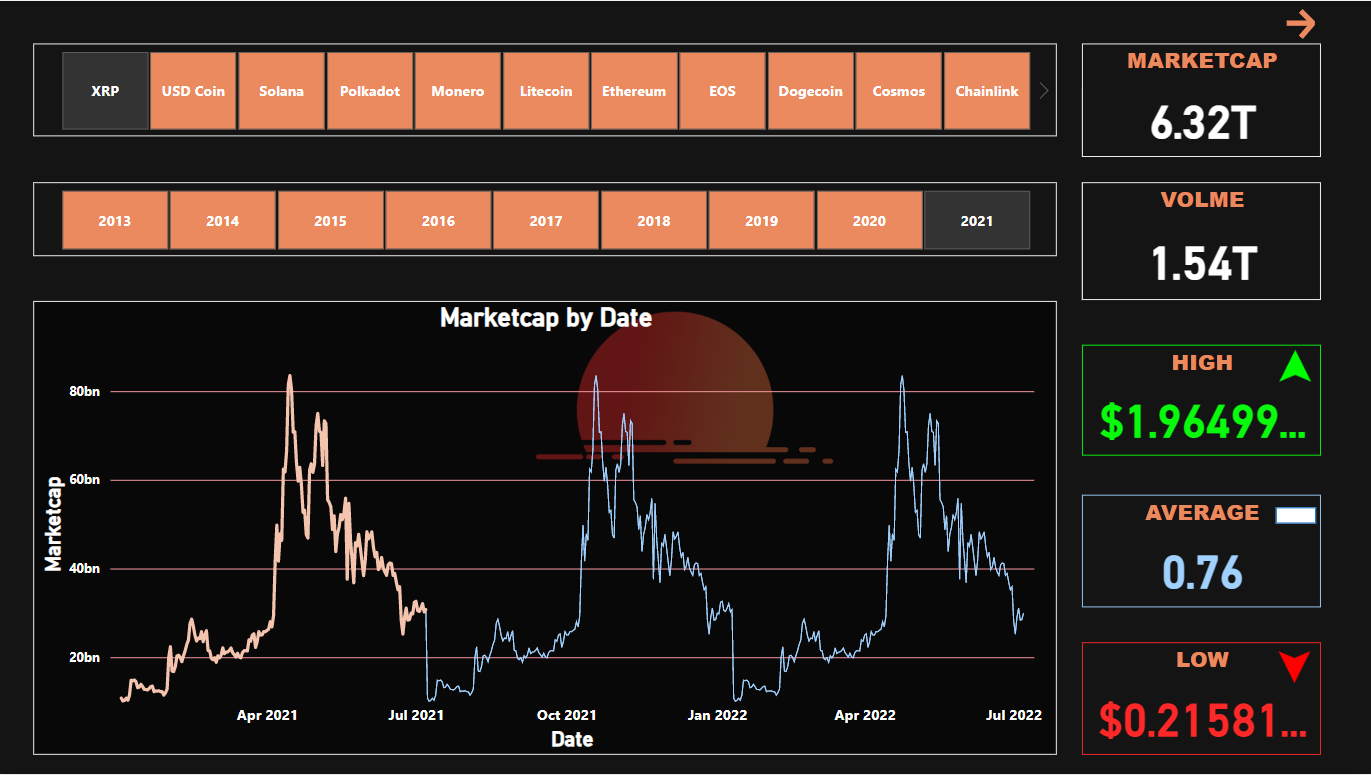

The page's visual inventory and layout, read from the dashboard file:
{"tool":"powerbi","page":{"name":"PAGE 1","canvas":[1280,720],"ordinal":0},"visuals":[{"type":"slicer","fields":{"Values":["archive.Name"]},"box":[33.8,39.8,952.8,85.6],"z":0},{"type":"slicer","fields":{"Values":["archive.year "]},"box":[33.5,145.1,953.3,69.2],"z":1000},{"type":"lineChart","fields":{"Y":["Sum(archive.Marketcap)"],"Category":["archive.Date"]},"box":[33.7,279.3,953,422.4],"z":2000},{"type":"actionButton","box":[1189.2,3.5,47.7,36.1],"z":3000},{"type":"card","title":"MARKETCAP","fields":{"Values":["Sum(archive.Marketcap)"]},"box":[1010,39.6,222.3,105.9],"z":4000},{"type":"card","title":"VOLME ","fields":{"Values":["Sum(archive.Volume)"]},"box":[1010,168.7,222.3,109.4],"z":5000},{"type":"card","title":"HIGH ","fields":{"Values":["Max(archive.High)"]},"box":[1010,320,222.3,103.6],"z":6000},{"type":"card","title":"LOW","fields":{"Values":["Min(archive.Low)"]},"box":[1010,596.9,222.3,104.7],"z":7000},{"type":"card","title":"AVERAGE ","fields":{"Values":["Avg(archive.average )"]},"box":[1010,459.6,222.3,104.7],"z":8000},{"type":"image","box":[1185.7,320,45.4,39.6],"z":9000},{"type":"image","box":[1183.4,600.4,48.9,39.6],"z":10000},{"type":"shape","box":[1190.4,471.3,37.2,15.1],"z":11000}]}

Visuals, with their boxes in screenshot pixels (x1, y1, x2, y2), scaled from the page's 1280x720 canvas onto the 1371x775 screenshot:
slicer - archive.Name: bbox=(36, 43, 1057, 135)
slicer - archive.year : bbox=(36, 156, 1057, 231)
lineChart - Sum(archive.Marketcap) x archive.Date: bbox=(36, 301, 1057, 755)
actionButton: bbox=(1274, 4, 1325, 43)
"MARKETCAP" card: bbox=(1082, 43, 1320, 157)
"VOLME " card: bbox=(1082, 182, 1320, 299)
"HIGH " card: bbox=(1082, 344, 1320, 456)
"LOW" card: bbox=(1082, 642, 1320, 755)
"AVERAGE " card: bbox=(1082, 495, 1320, 607)
image: bbox=(1270, 344, 1319, 387)
image: bbox=(1268, 646, 1320, 689)
shape: bbox=(1275, 507, 1315, 524)
